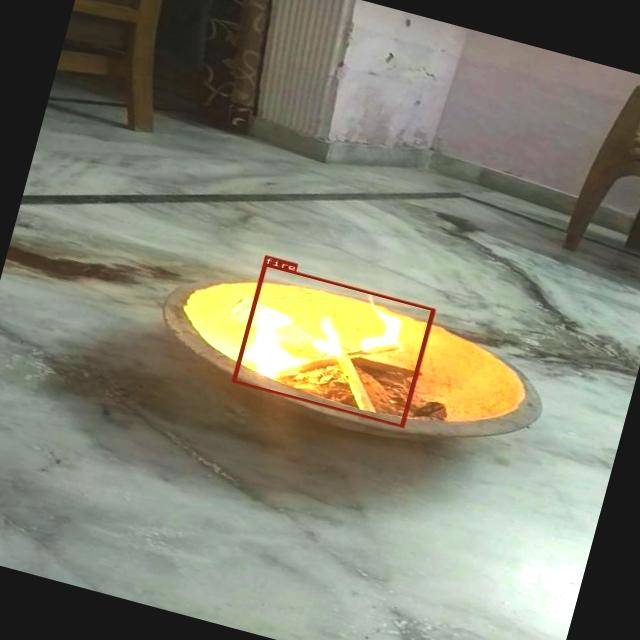fire: (230, 262, 434, 427)
